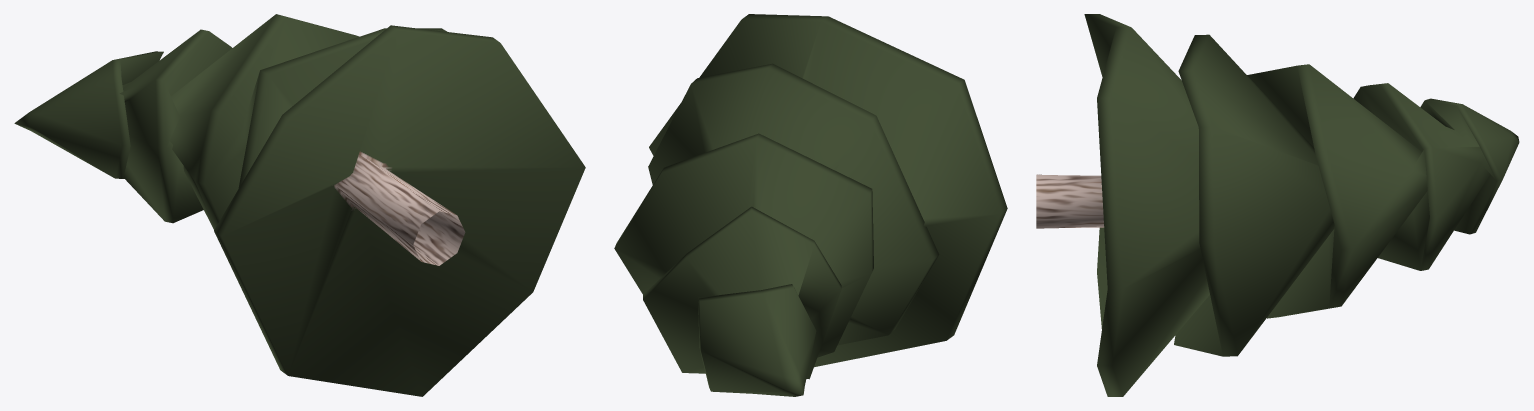
Rendered from firtree_02.dae.
3 views of the same model, side by side, from view 1: azimuth 30°, elevation 25°; view 2: azimuth 150°, elevation 25°; view 3: azimuth 270°, elevation 25° (orthographic). The views are drawn at different scales.
Parts seen in each view (by area): view 1: firtree; view 2: firtree; view 3: firtree.
Boxes of the visible parts, x1,y1,x2,y2 form: firtree: [14, 14, 585, 396]; firtree: [614, 14, 1007, 396]; firtree: [1036, 14, 1519, 396].
Size of the model in its own units: 0.9407 by 1.1 by 0.9073.
1 material, 1 textured.
